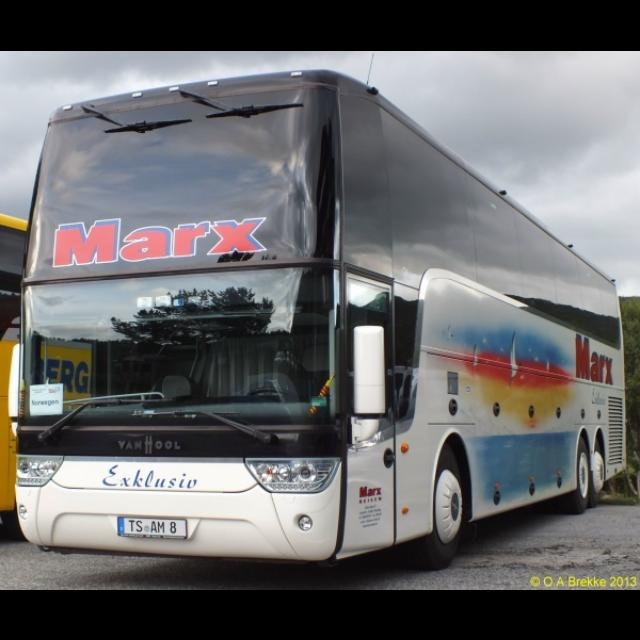d_license_plate: (118, 516, 184, 534)
